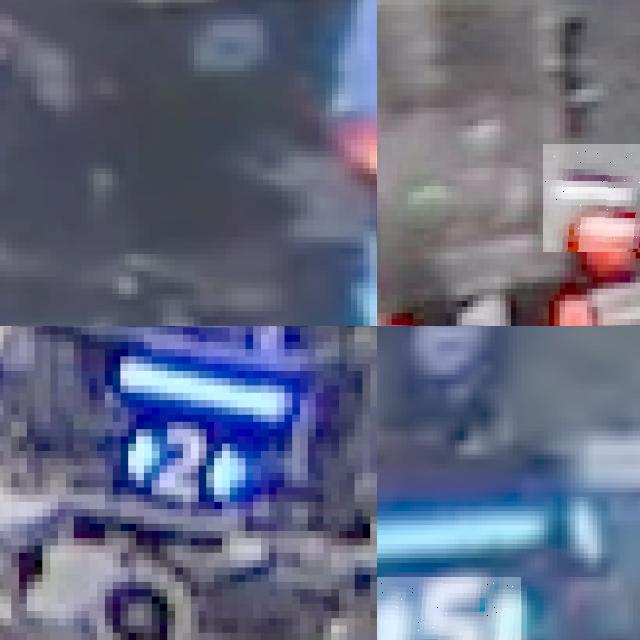B2: (128, 415, 245, 509)
B5: (377, 577, 521, 640)
R1: (380, 276, 592, 326), (543, 143, 640, 252)
